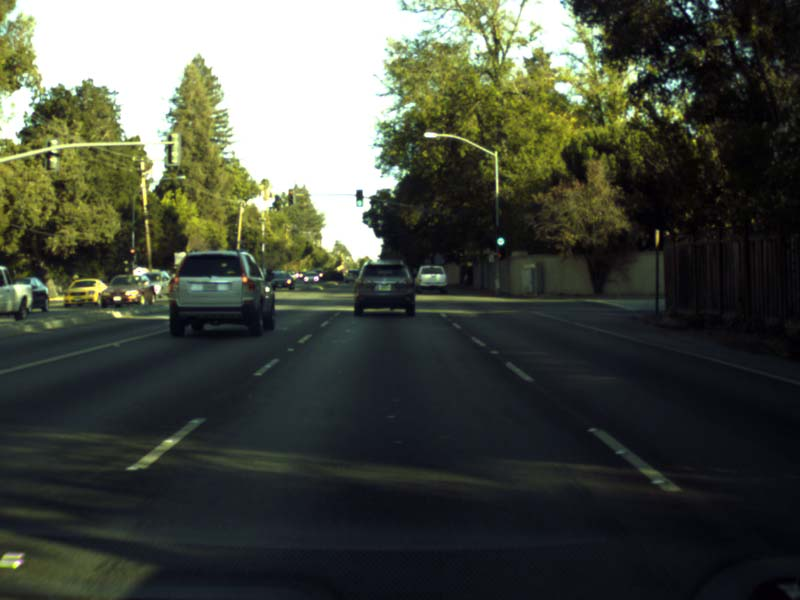Green: (496, 234, 505, 247), (355, 190, 362, 206)
Red: (287, 188, 293, 205)
